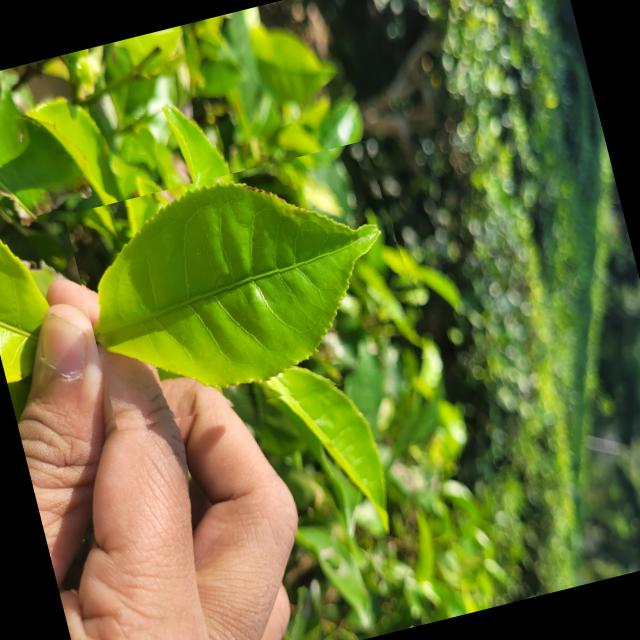Catagory A(1-2 days): (63, 136, 435, 442)
